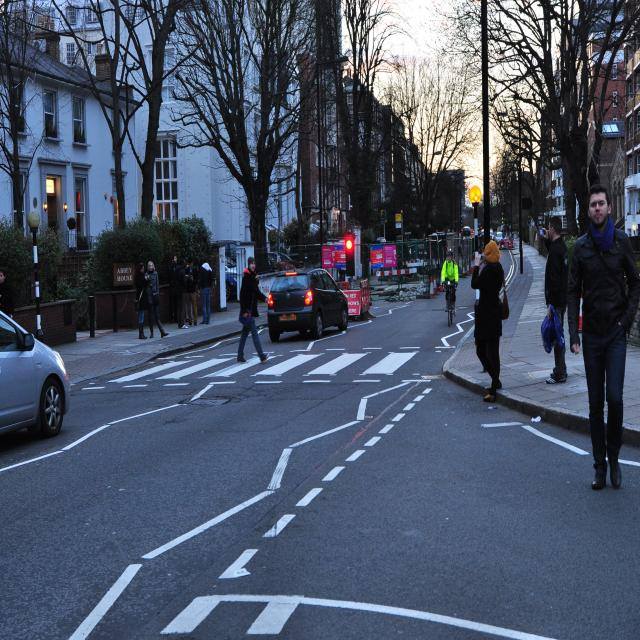body: (565, 182, 640, 493), (469, 239, 506, 404), (538, 213, 572, 387), (235, 255, 271, 365), (144, 259, 170, 340), (440, 249, 460, 318), (132, 261, 148, 341), (173, 258, 190, 330), (184, 256, 199, 327), (198, 256, 212, 326), (167, 254, 178, 324), (185, 300, 193, 322), (185, 264, 190, 272)
